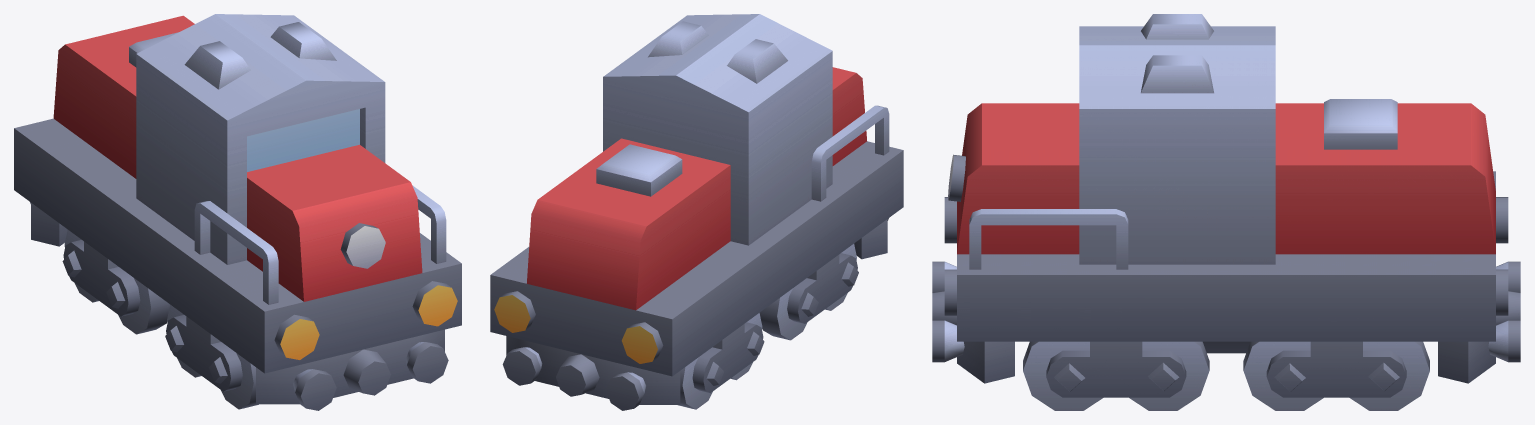
Rendered from train-diesel-b.glb.
3 renders of one model, left to right at view 1: azimuth 30°, elevation 25°; view 2: azimuth 150°, elevation 25°; view 3: azimuth 270°, elevation 25°, orthographic. The views are drawn at different scales.
Visible parts, largest first — view 1: train-diesel-b; view 2: train-diesel-b; view 3: train-diesel-b.
Boxes of the visible parts, box(x1,y1,x2,y2) form: train-diesel-b: box(14, 14, 461, 410); train-diesel-b: box(490, 14, 903, 410); train-diesel-b: box(932, 14, 1520, 410).
Size of the model in its own units: 1 by 1.48 by 2.4.
1 material, 1 textured.
